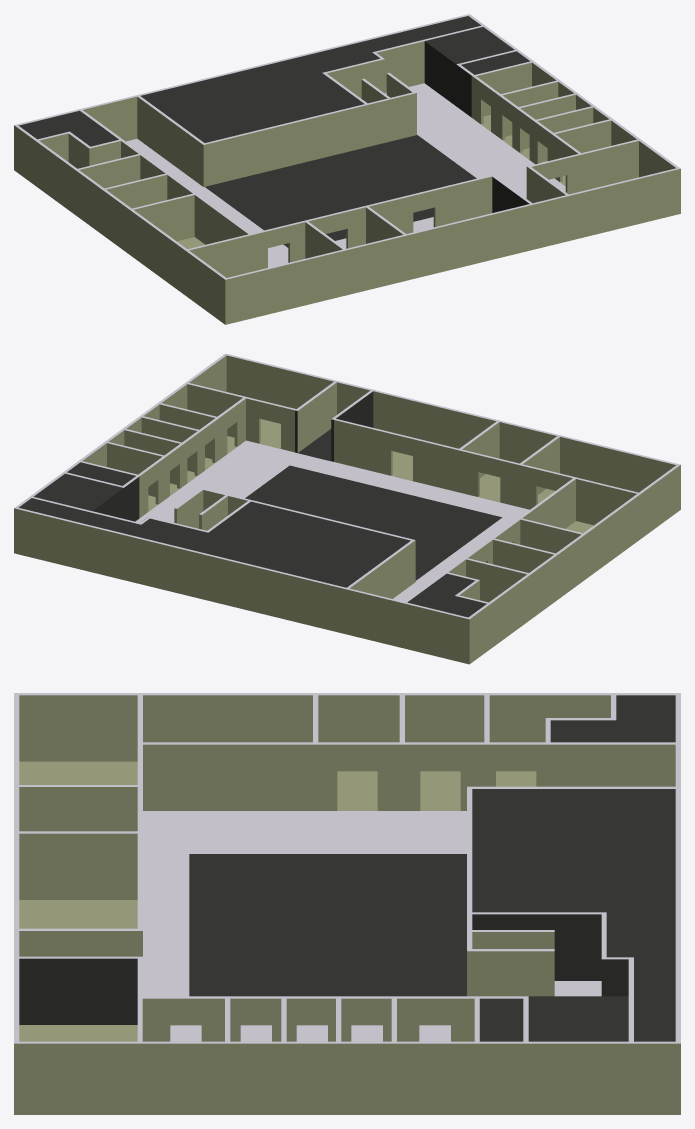
The model's file is 4_floor.glb.
The picture shows the model from 3 angles, top to bottom: view 1: azimuth 30°, elevation 25°; view 2: azimuth 150°, elevation 25°; view 3: azimuth 270°, elevation 25°; orthographic projection. The views are drawn at different scales.
Parts seen in each view (by area): view 1: Line044, Box357, Box358, Box410, Line045, Group016, Box359, Box401, Box366, Box487, Box411, Box409 (+32 smaller); view 2: Line044, Box413, Box357, Line045, Box358, Box359, Group016, Box401, Box366, Box394, Group024, Box374 (+36 smaller); view 3: Box357, Line044, Line045, Group016, Box401, Box378, Box383, Box368, Box362, Box361, Box402, Box474 (+24 smaller).
Part boxes in pixels (<box>): Line044: <box>141,16,480,142</box>; Box357: <box>205,135,476,247</box>; Box358: <box>228,204,534,320</box>; Box410: <box>202,93,415,186</box>; Line045: <box>126,83,565,267</box>; Group016: <box>14,14,680,279</box>; Box359: <box>247,176,492,272</box>; Box401: <box>84,176,184,294</box>; Box366: <box>570,169,677,237</box>; Box487: <box>424,27,514,105</box>; Box411: <box>137,97,201,185</box>; Box409: <box>580,141,638,191</box>; Line044: <box>18,498,410,587</box>; Box413: <box>75,523,344,633</box>; Box357: <box>245,465,502,580</box>; Line045: <box>135,440,529,601</box>; Box358: <box>373,391,675,492</box>; Box359: <box>334,420,572,509</box>; Group016: <box>14,353,680,619</box>; Box401: <box>539,495,639,612</box>; Box366: <box>226,355,333,408</box>; Box394: <box>343,589,409,649</box>; Group024: <box>63,382,415,588</box>; Box374: <box>14,508,74,567</box>; Box357: <box>189,854,466,996</box>; Line044: <box>472,789,675,1041</box>; Line045: <box>143,811,601,1041</box>; Group016: <box>14,693,680,1043</box>; Box401: <box>143,695,461,742</box>; Box378: <box>372,1043,533,1114</box>; Box383: <box>143,744,303,810</box>; Box368: <box>143,1043,286,1114</box>; Box362: <box>14,1043,142,1114</box>; Box361: <box>19,958,137,1024</box>; Box402: <box>19,695,137,761</box>; Box474: <box>19,833,137,899</box>.
Size of the model in its own units: 47605 by 4501 by 38267.
